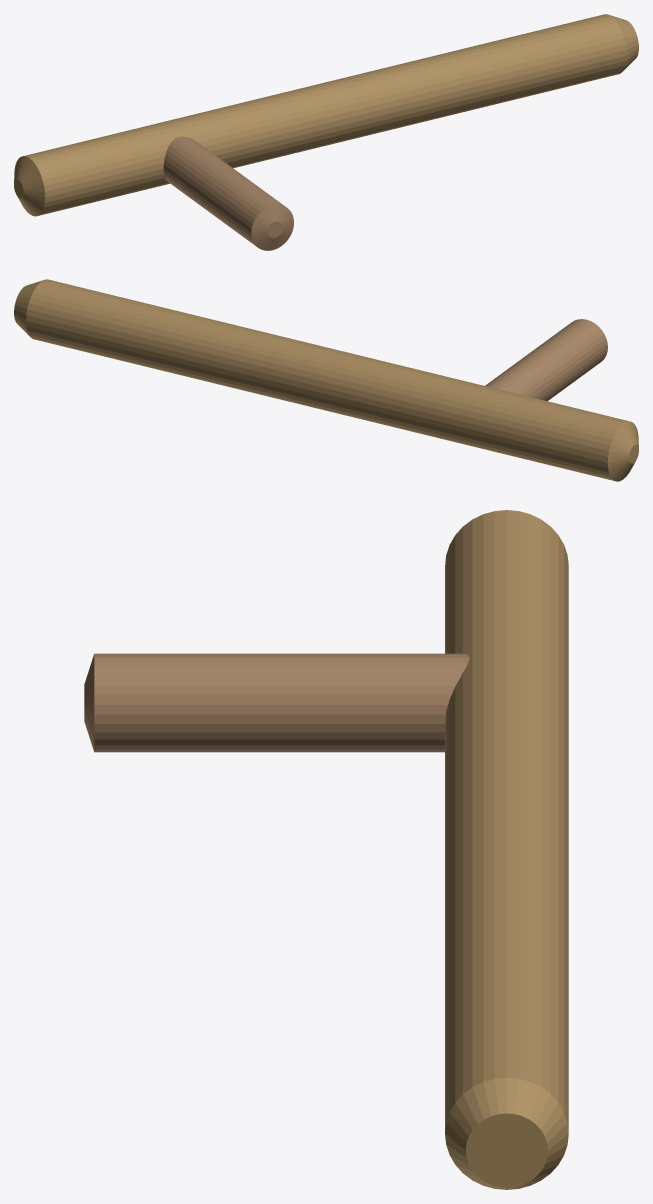
The model's file is tonfa.fbx.
3 views of the same model, one above another, from view 1: azimuth 30°, elevation 25°; view 2: azimuth 150°, elevation 25°; view 3: azimuth 270°, elevation 25° (orthographic). The views are drawn at different scales.
Visible parts, largest first — view 1: Cylinder, Cylinder.001; view 2: Cylinder, Cylinder.001; view 3: Cylinder, Cylinder.001.
Boxes of the visible parts, x1,y1,x2,y2 form: Cylinder: (14,14,638,216); Cylinder.001: (163,136,293,250); Cylinder: (14,279,638,481); Cylinder.001: (485,319,607,401); Cylinder: (445,510,568,1189); Cylinder.001: (84,653,469,752).
Bounding box in the file's own units: 455 × 40 × 157.
